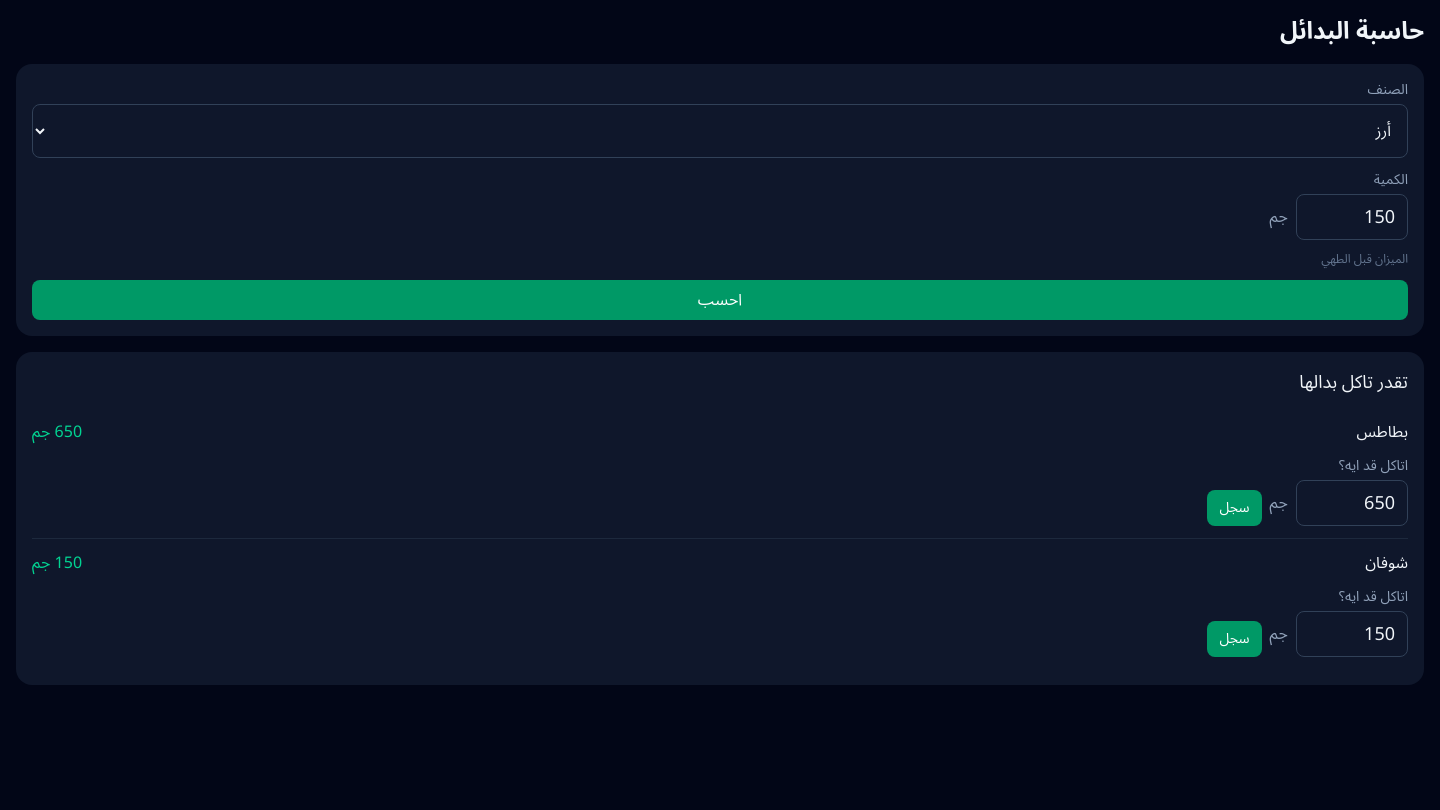
Test: SwapScreen logging › logs what the user actually ate and says what is left of the planned food
Expected: the list item "بطاطس 650 جم اتاكل قد ايه؟ جم سجل" is shown, [32,408,1408,539]
Replace the text in the number field labelled "اتاكل قد ايه؟" below "بطاطس" with "260": [1352, 503] box [1296,480,1408,526]
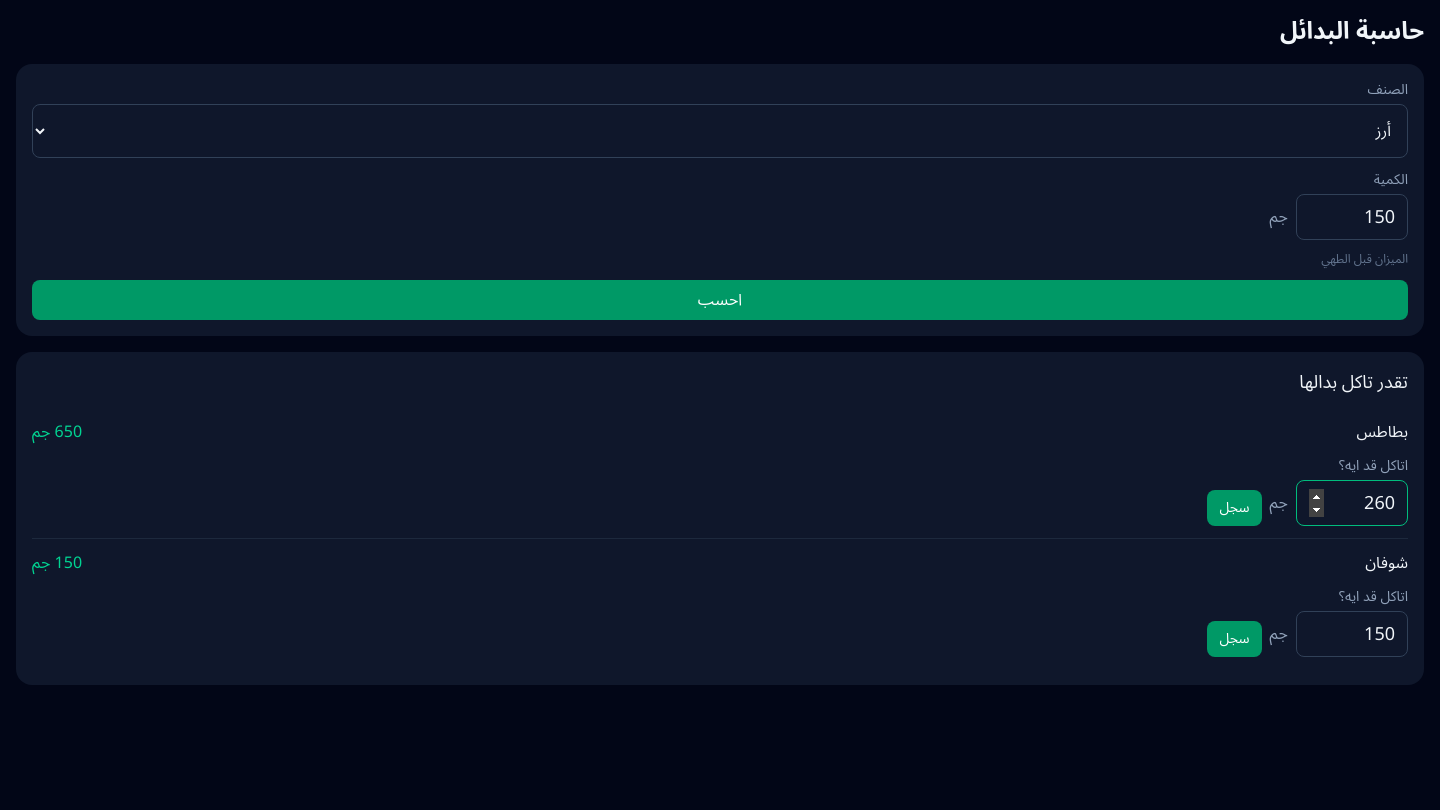
Click the button "سجل" below "بطاطس": [1235, 508] box [1208,490,1262,526]
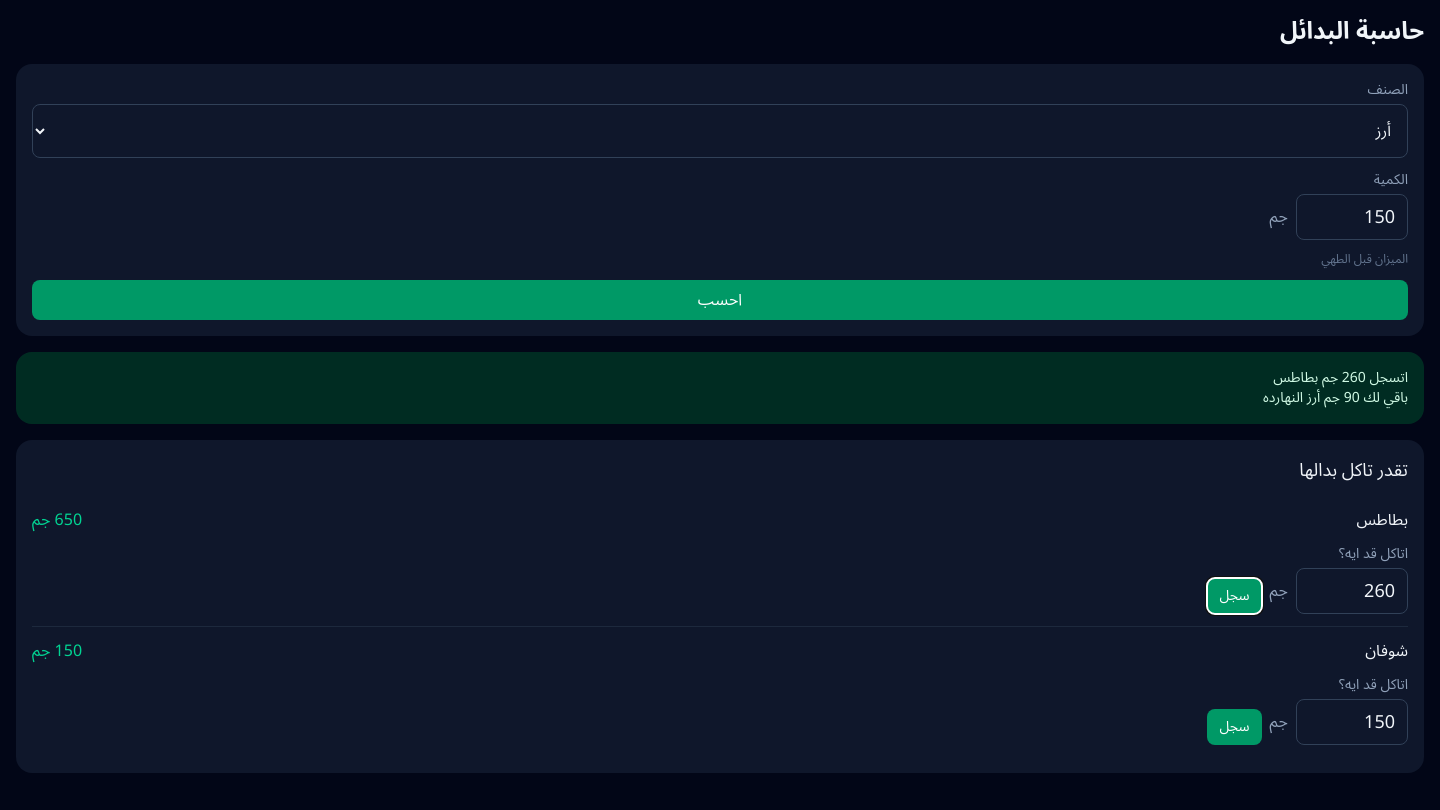
Expected: the message shows "اتسجل 260 جم بطاطس", [1273,363,1408,392]
Expected: the message shows "باقي لك 90 جم أرز", [1263,383,1408,412]
